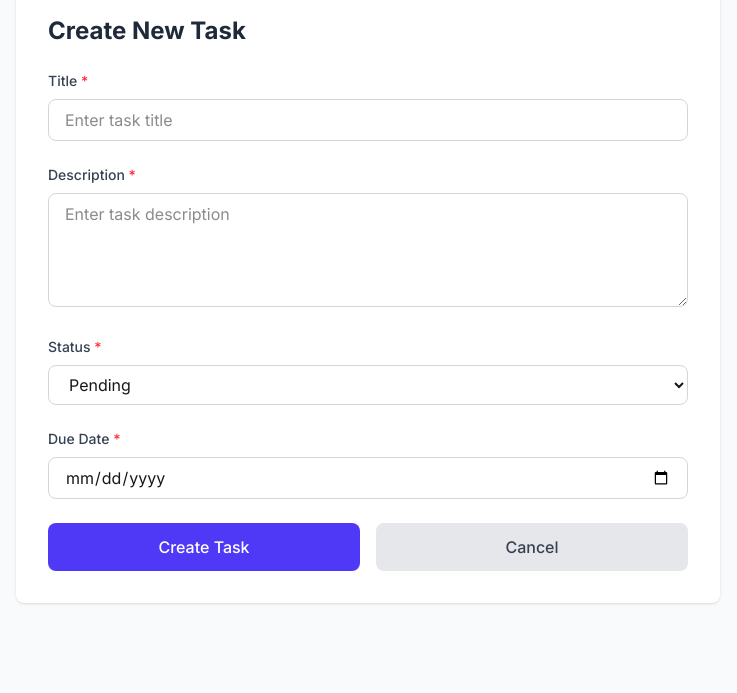
Test: New Task Page › should show validation errors for empty fields
Expected: the heading "Create New Task" is shown, [48, 16, 246, 45]
Click the button "Create Task" at (204, 547), box [48, 523, 360, 571]
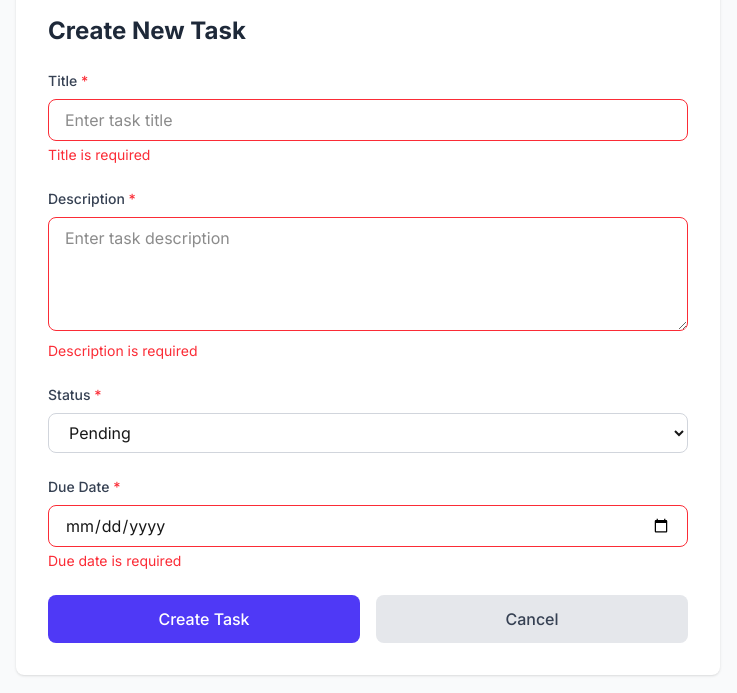
Now the text "Title is required" is shown, box [48, 146, 150, 163]
Now the text "Description is required" is shown, box [48, 342, 198, 359]
Now the text "Due date is required" is shown, box [48, 552, 181, 569]
